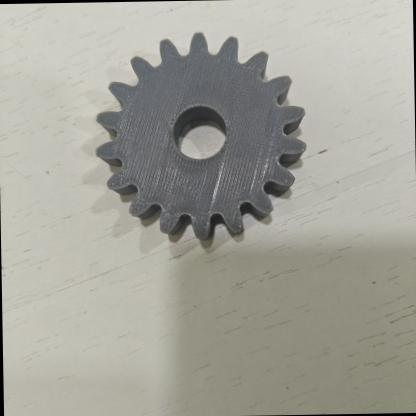gear: (75, 25, 318, 256)
